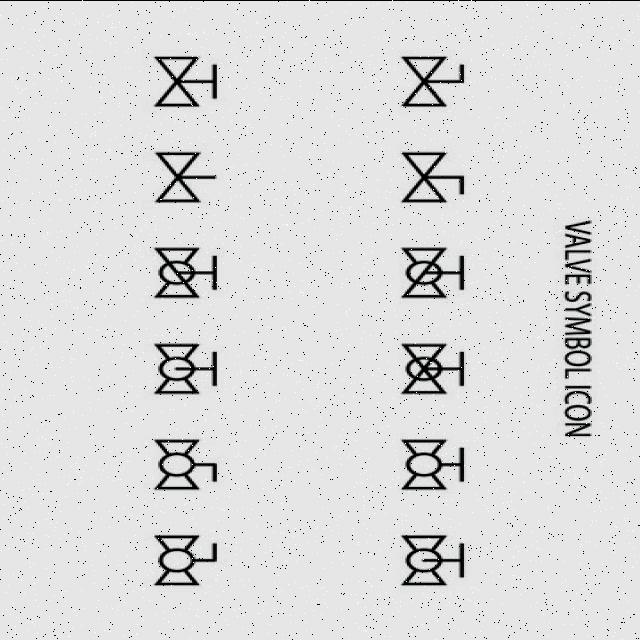Cock Valve: (379, 48, 494, 118), (382, 136, 488, 210)
Hand Operated Ball Valve: (367, 422, 495, 504), (377, 338, 484, 408)
Hand Operated Gate Valve: (142, 46, 228, 114)
